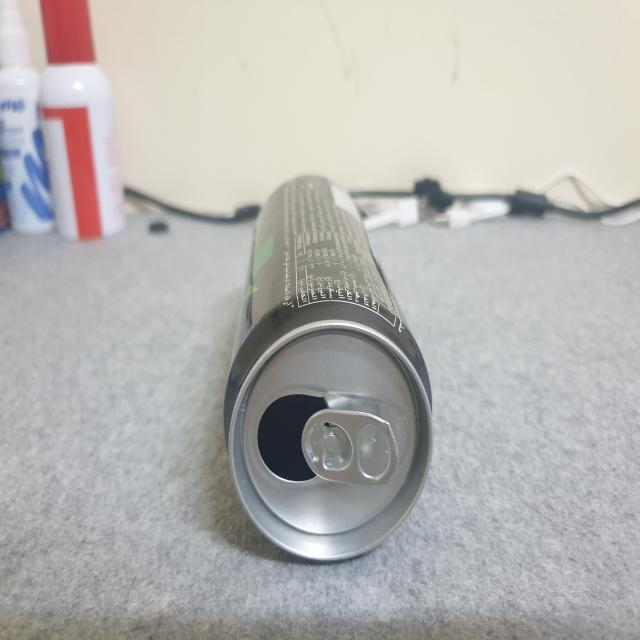can: (220, 152, 442, 570)
